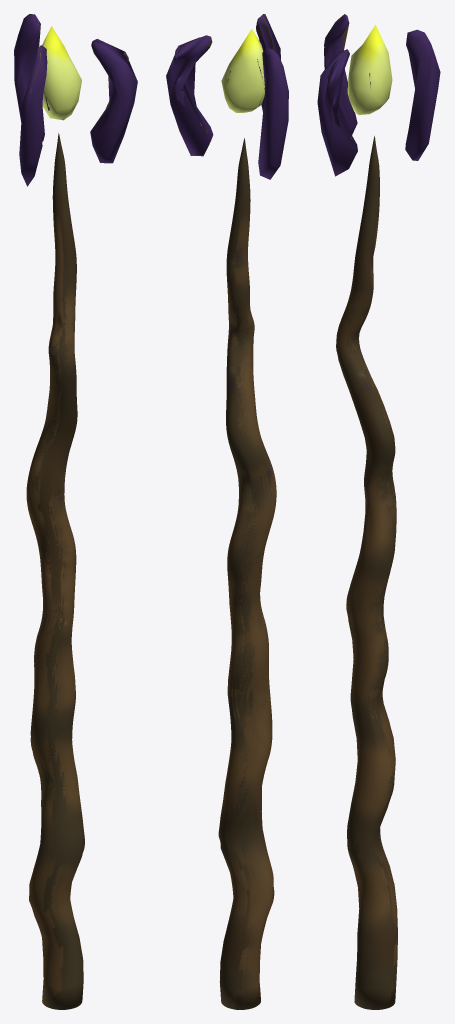
Rendered from staffModelTEST.fbx.
3 views of the same model, side by side, from view 1: azimuth 30°, elevation 25°; view 2: azimuth 210°, elevation 25°; view 3: azimuth 270°, elevation 25° (orthographic).
Visible parts, largest first — view 1: Quad Sphere, Quad Sphere.001, Quad Sphere.004, Quad Sphere.003, Quad Sphere.002; view 2: Quad Sphere, Quad Sphere.001, Quad Sphere.002, Quad Sphere.004, Quad Sphere.003; view 3: Quad Sphere, Quad Sphere.002, Quad Sphere.001, Quad Sphere.004, Quad Sphere.003.
Part boxes in pixels (x1,y1,x2,y2): Quad Sphere: (26, 133, 84, 1009); Quad Sphere.001: (90, 39, 137, 163); Quad Sphere.004: (42, 26, 81, 120); Quad Sphere.003: (19, 45, 47, 186); Quad Sphere.002: (14, 14, 44, 141); Quad Sphere: (218, 138, 276, 1009); Quad Sphere.001: (166, 35, 213, 156); Quad Sphere.002: (258, 48, 288, 179); Quad Sphere.004: (221, 29, 265, 112); Quad Sphere.003: (256, 14, 280, 111); Quad Sphere: (336, 136, 397, 1009); Quad Sphere.002: (405, 29, 440, 160); Quad Sphere.001: (317, 49, 357, 176); Quad Sphere.004: (347, 25, 392, 114); Quad Sphere.003: (324, 14, 357, 134).
Size of the model in its own units: 807 by 6764 by 774.
Materials: 1 (1 with a texture image).
